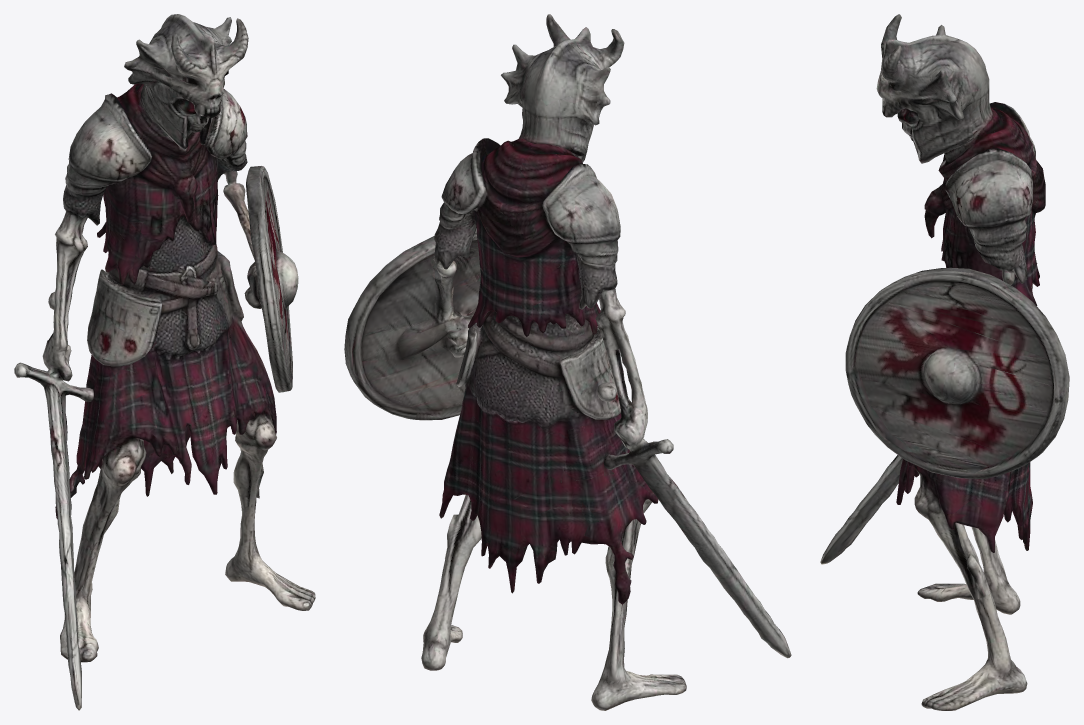
File: UD_ScottishHero.glb
3 renders of one model, left to right at view 1: azimuth 30°, elevation 25°; view 2: azimuth 150°, elevation 25°; view 3: azimuth 270°, elevation 25°, orthographic.
Bounding box in the file's own units: 1.03 × 1.91 × 0.6928.
Materials: 1 (1 with a texture image).
